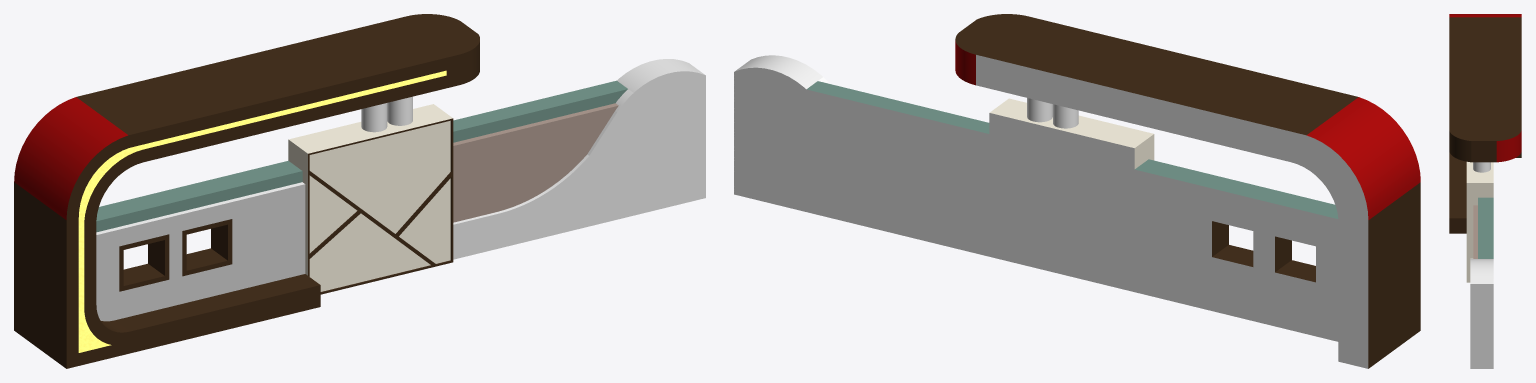
The picture shows the model from 3 angles, left to right: view 1: azimuth 30°, elevation 25°; view 2: azimuth 150°, elevation 25°; view 3: azimuth 270°, elevation 25°; orthographic projection. The views are drawn at different scales.
Visible parts, largest first — view 1: SketchUp.002, SketchUp.010, SketchUp.029, SketchUp.023, SketchUp.020, SketchUp.014, SketchUp.011, SketchUp.024, SketchUp.012, SketchUp.030, SketchUp.015, SketchUp.022 (+9 smaller); view 2: SketchUp.009, SketchUp.002, SketchUp.014, SketchUp.011, SketchUp.015, SketchUp.012, SketchUp.010, SketchUp.021, SketchUp.018, SketchUp.013; view 3: SketchUp.002, SketchUp.010, SketchUp.015, SketchUp.012, SketchUp.013, SketchUp.014, SketchUp.023, SketchUp.016.
Part boxes in pixels (x1,y1,x2,y2): SketchUp.002: (14,14,479,368); SketchUp.010: (453,59,705,259); SketchUp.029: (96,184,305,321); SketchUp.023: (453,103,618,222); SketchUp.020: (309,120,450,233); SketchUp.014: (14,97,127,219); SketchUp.011: (96,160,302,232); SketchUp.024: (309,213,430,291); SketchUp.012: (453,80,627,142); SketchUp.030: (78,70,446,352); SketchUp.015: (288,104,452,275); SketchUp.022: (399,178,450,263); SketchUp.009: (734,55,1368,368); SketchUp.002: (955,14,1420,368); SketchUp.014: (1306,97,1420,219); SketchUp.011: (1135,159,1338,218); SketchUp.015: (989,98,1154,168); SketchUp.012: (806,81,989,133); SketchUp.010: (734,55,822,160); SketchUp.021: (1212,221,1253,266); SketchUp.018: (1275,236,1315,282); SketchUp.013: (955,40,975,85); SketchUp.002: (1449,17,1521,233); SketchUp.010: (1470,259,1493,368); SketchUp.015: (1466,161,1493,282); SketchUp.012: (1478,197,1493,258); SketchUp.013: (1496,131,1521,162); SketchUp.014: (1449,14,1521,17); SketchUp.023: (1473,205,1477,258); SketchUp.016: (1473,162,1490,172).
Bounding box in the file's own units: 5.11 × 1.63 × 0.708.
Materials: 10 (2 with a texture image).
